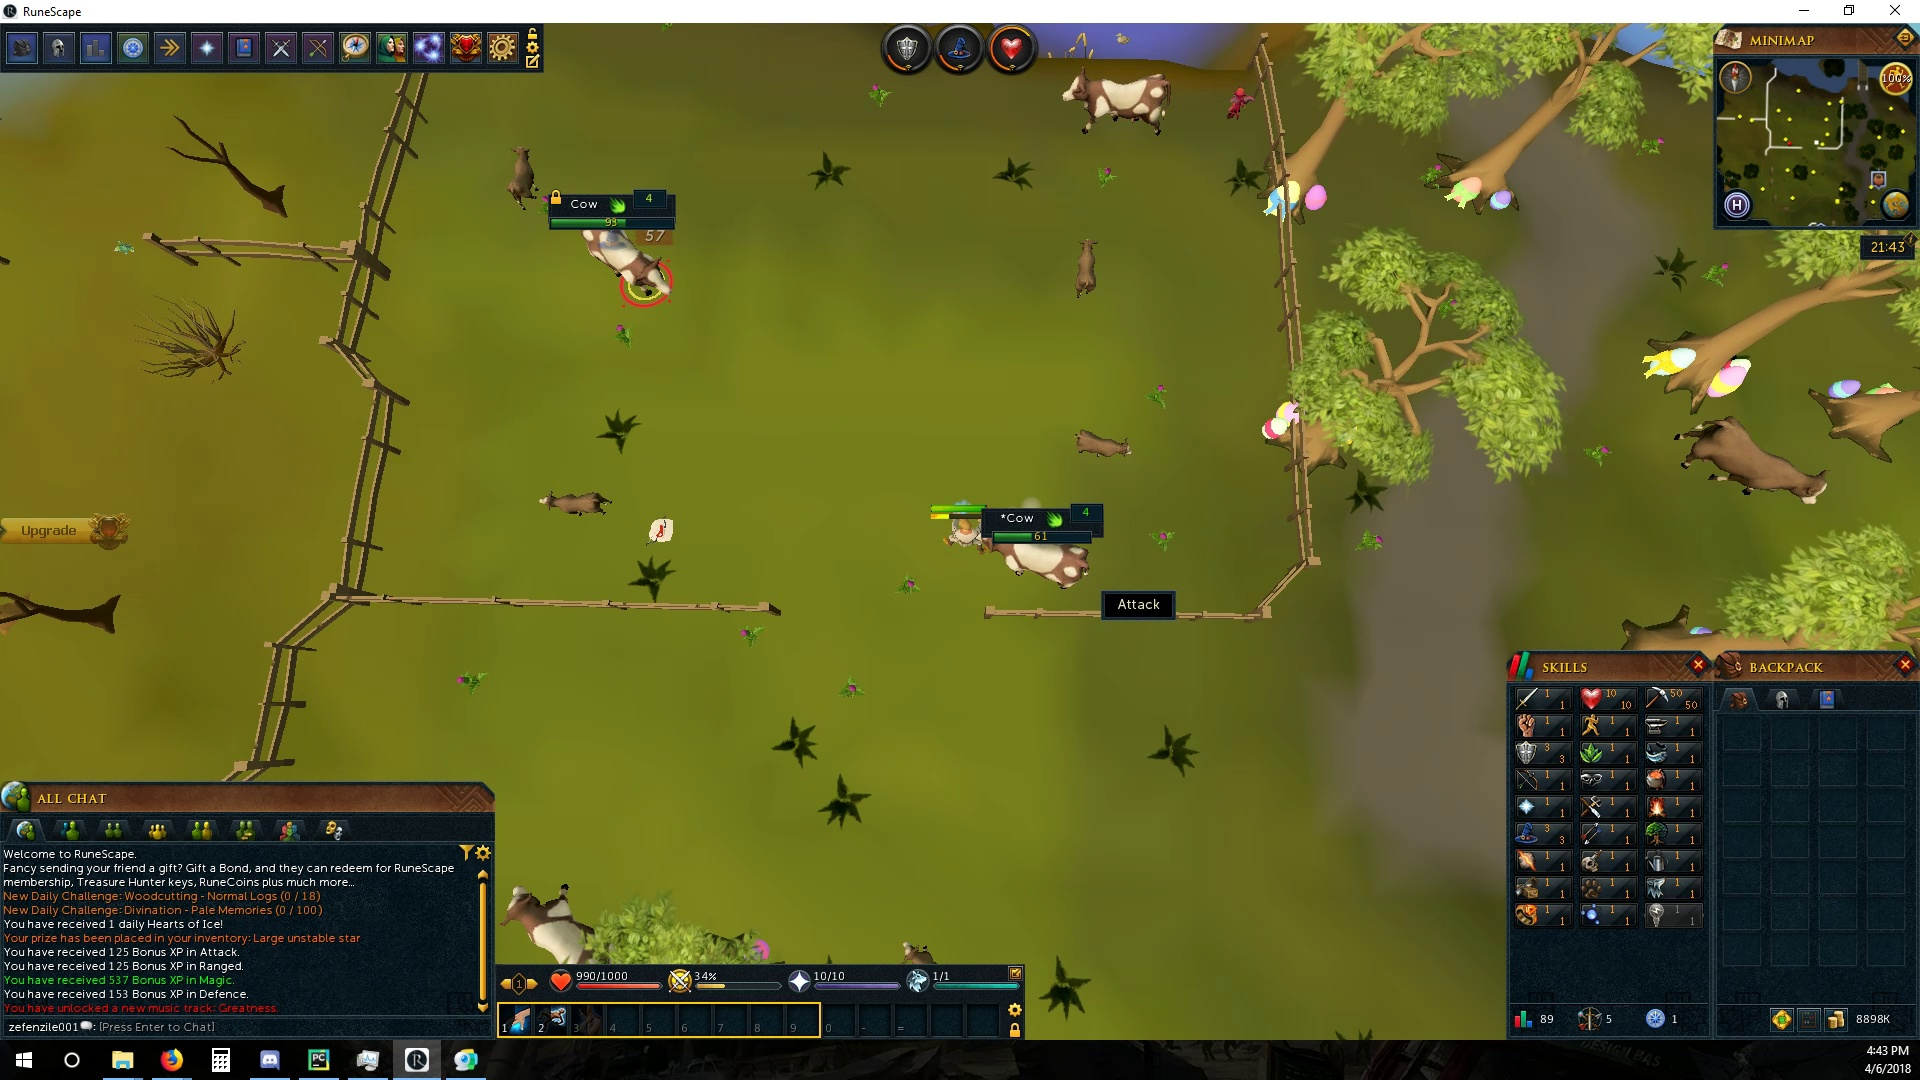calf: (531, 489, 618, 521), (505, 144, 542, 215), (1069, 236, 1102, 307), (1069, 429, 1137, 463)
cow: (1673, 413, 1832, 513), (498, 881, 615, 961), (1058, 66, 1174, 138), (568, 228, 676, 298), (996, 543, 1092, 591)
cow_drop: (647, 512, 676, 541)
